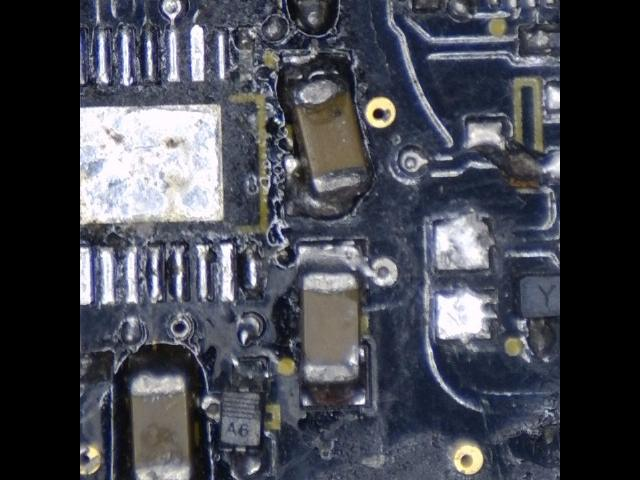Incorrect_installation: (281, 55, 374, 220)
Short_circuit: (462, 112, 561, 185), (296, 240, 399, 293)
